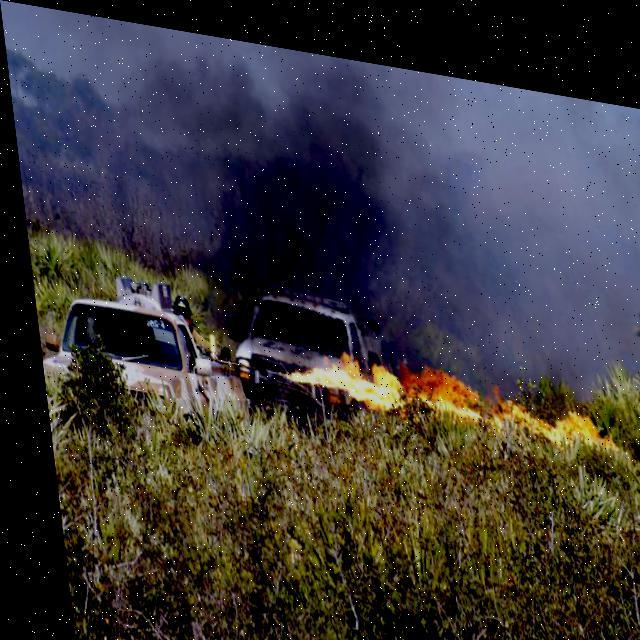Fire: (265, 335, 612, 447)
